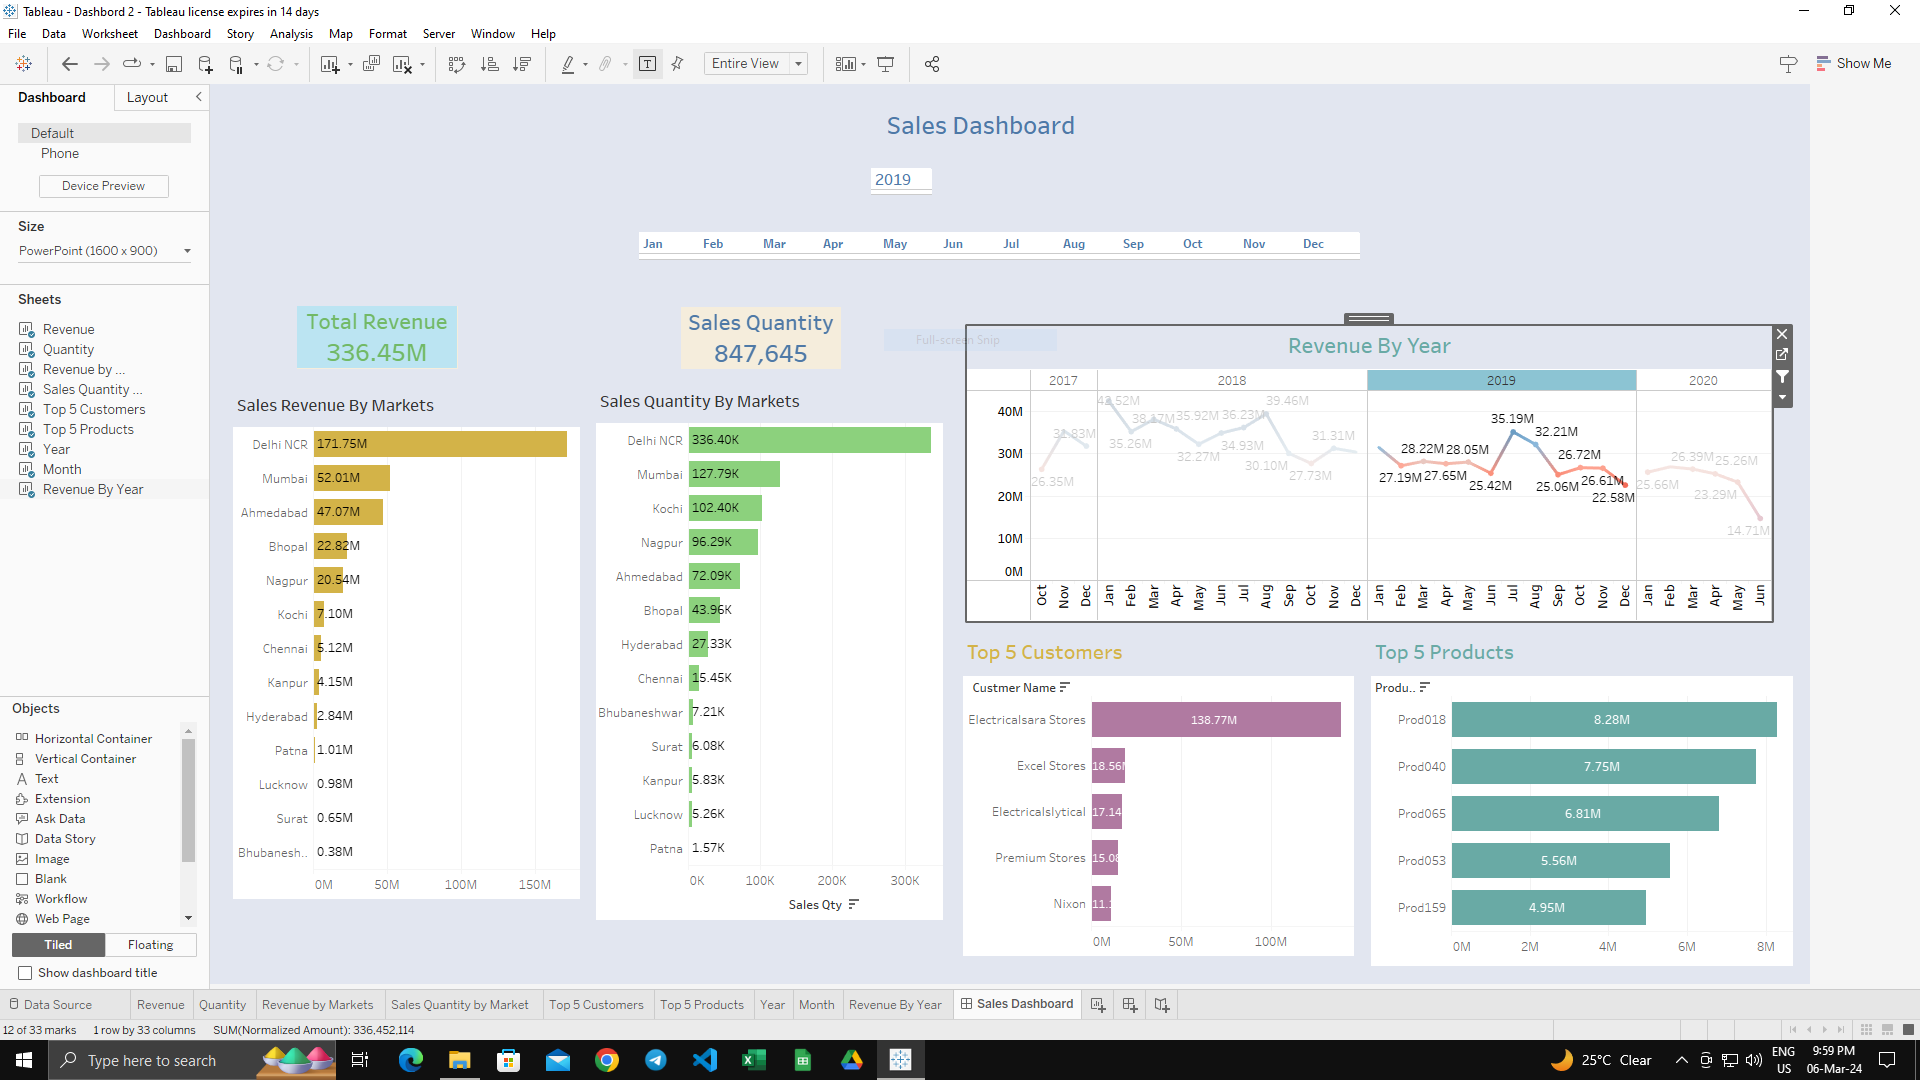

The dashboard page shown, as its layout file describes it:
{"tool":"tableau","page":{"name":"Sales Dashboard","canvas":[1600,900],"ordinal":0},"visuals":[{"type":"text","box":[618,25,306,30]},{"type":"worksheet","title":"Year","mark":"Automatic","cols":["cy_date"],"box":[661,70,293,45]},{"type":"worksheet","title":"Month","mark":"Automatic","cols":["cy_date"],"box":[429,134,729,49]},{"type":"worksheet","title":"Revenue","mark":"Automatic","box":[100,207,171,90]},{"type":"worksheet","title":"Quantity","mark":"Automatic","box":[471,208,173,88]},{"type":"worksheet","title":"Revenue By Year","mark":"Automatic","rows":["Calculation_672162306725236736"],"cols":["cy_date","cy_date"],"box":[757,242,805,295]},{"type":"worksheet","title":"Sales Quantity by Market","mark":"Automatic","rows":["markets_name"],"cols":["sales_qty"],"box":[386,302,347,561]},{"type":"worksheet","title":"Revenue by Markets","mark":"Automatic","rows":["markets_name"],"cols":["Calculation_672162306725236736"],"box":[23,306,347,554]},{"type":"worksheet","title":"Top 5 Customers","mark":"Automatic","rows":["custmer_name"],"cols":["Calculation_672162306725236736"],"box":[753,549,391,333]},{"type":"worksheet","title":"Top 5 Products","mark":"Automatic","rows":["product_code (products)"],"cols":["Calculation_672162306725236736"],"box":[1161,549,422,337]}]}

Visuals, with their boxes on the page's 1600x900 design canvas (x1, y1, x2, y2). These are canvas units, not pixel positions in the 1920x1080 screenshot, which may show the page scaled, cropped or inside an application window:
text: locate(618, 25, 924, 55)
"Year" worksheet: locate(661, 70, 954, 115)
"Month" worksheet: locate(429, 134, 1158, 183)
"Revenue" worksheet: locate(100, 207, 271, 297)
"Quantity" worksheet: locate(471, 208, 644, 296)
"Revenue By Year" worksheet: locate(757, 242, 1562, 537)
"Sales Quantity by Market" worksheet: locate(386, 302, 733, 863)
"Revenue by Markets" worksheet: locate(23, 306, 370, 860)
"Top 5 Customers" worksheet: locate(753, 549, 1144, 882)
"Top 5 Products" worksheet: locate(1161, 549, 1583, 886)
